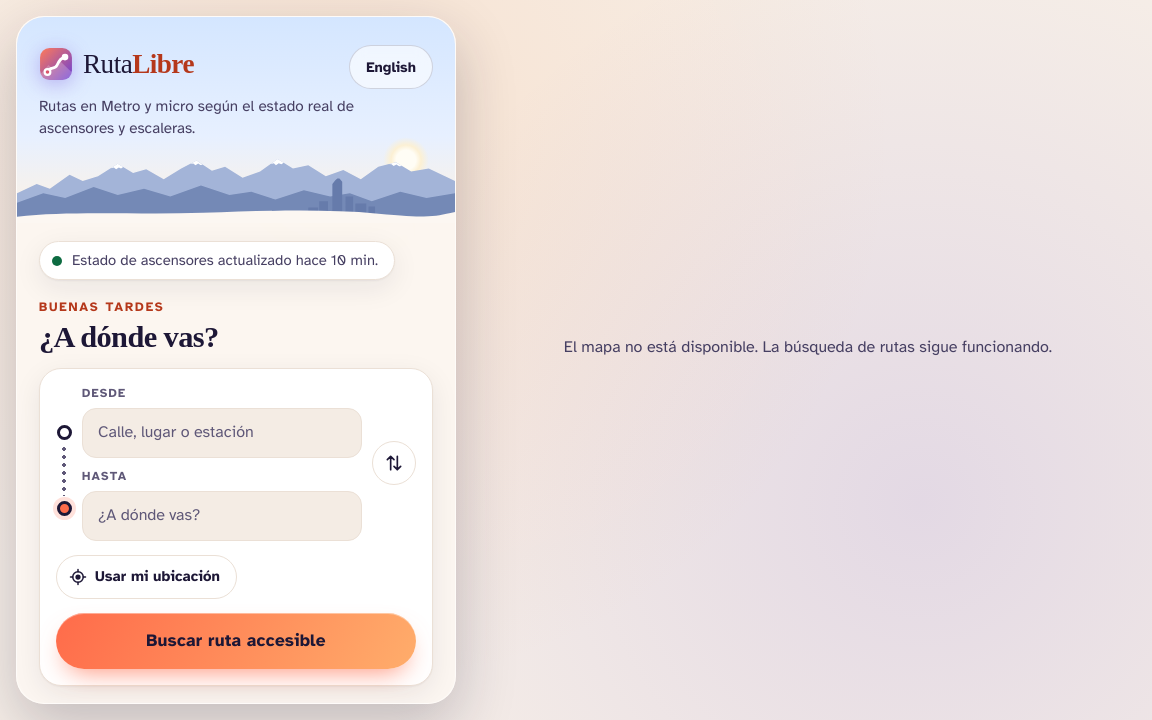
Test: App › keeps the plan result accessible to the whole trip, not just the map
Step 1. Type "Univ" into the dropdown labelled "Desde" → [222, 433], box [82,408,362,458]
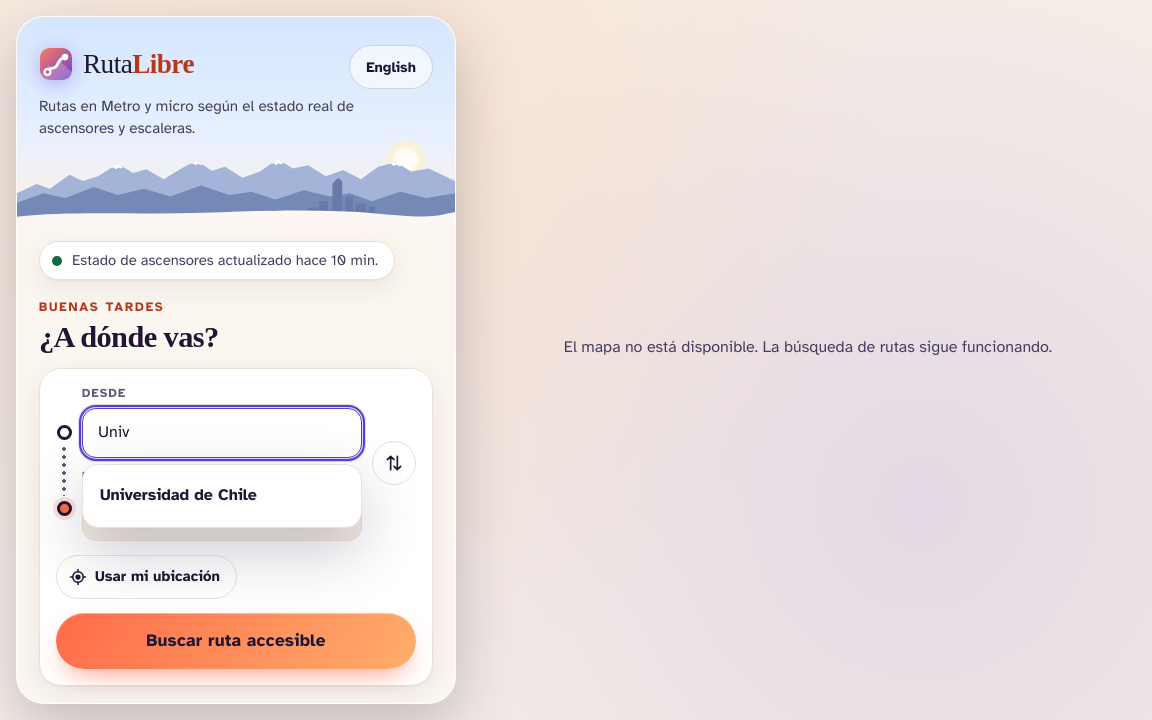
Step 2. Click the option "Universidad de Chile" → [178, 495], box [100,485,257,505]
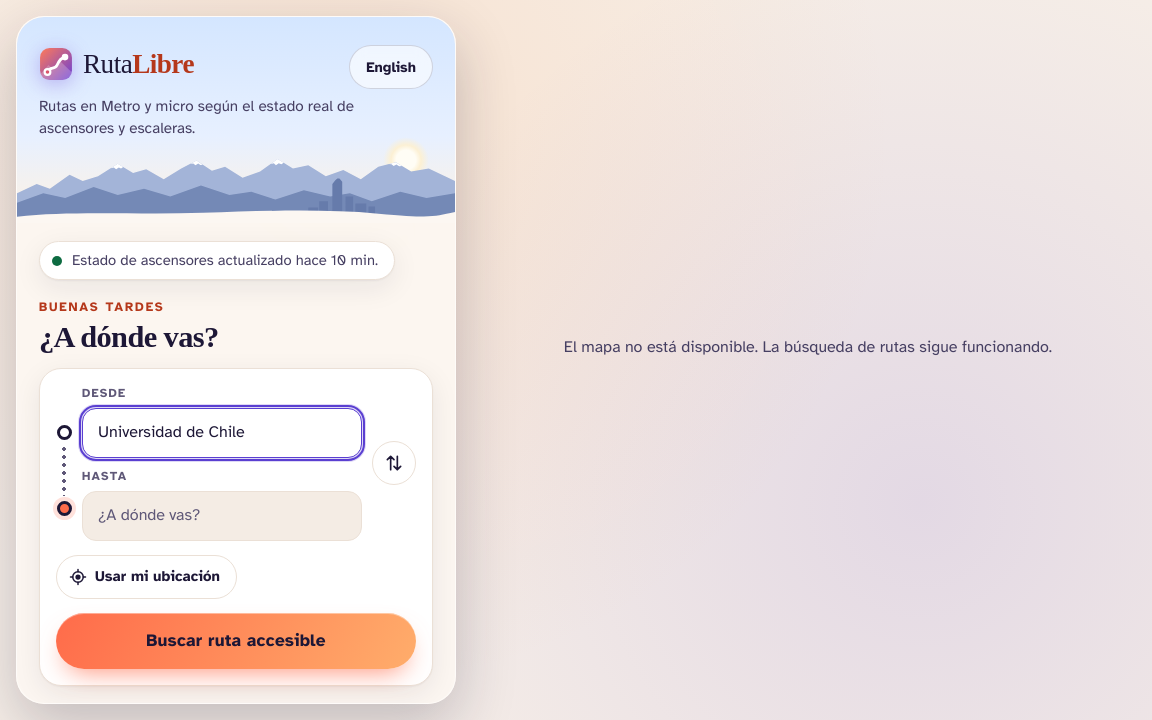
Step 3. Type "Univ" into the dropdown labelled "Hasta" → [222, 516], box [82,491,362,541]
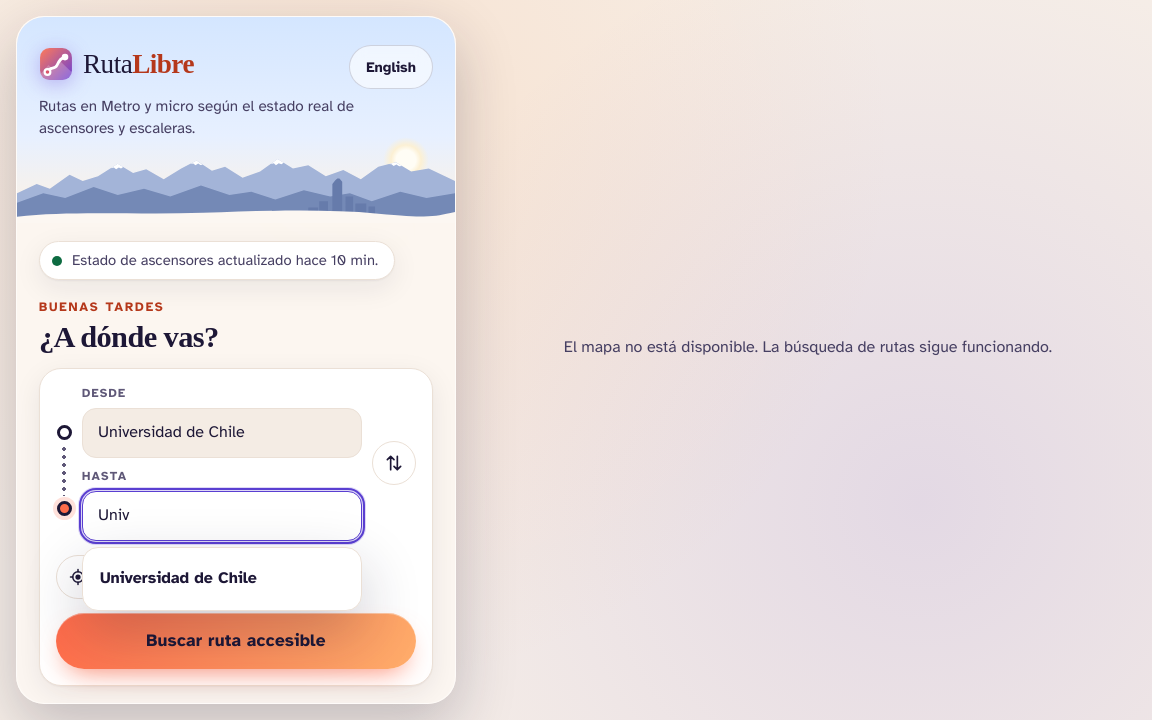
Step 4. Click the option "Universidad de Chile" → [178, 578], box [100,568,257,588]
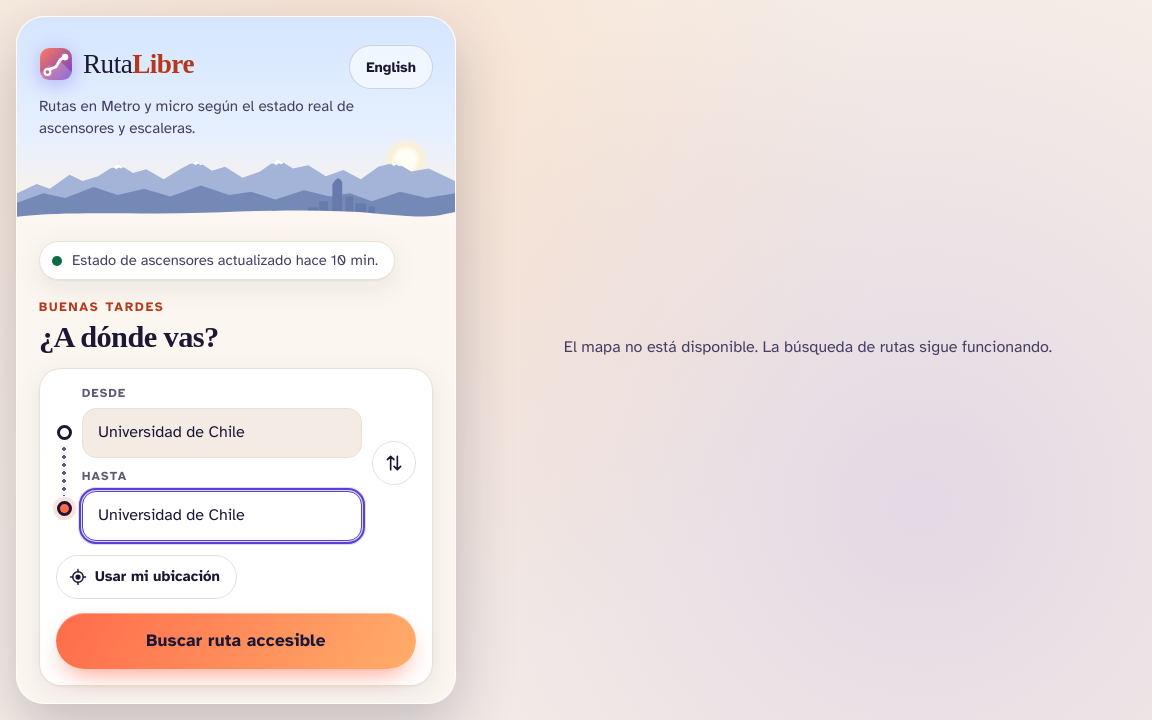
Step 5. Click the button "Buscar ruta accesible" → [236, 641], box [56,613,416,669]
(page scrolled)
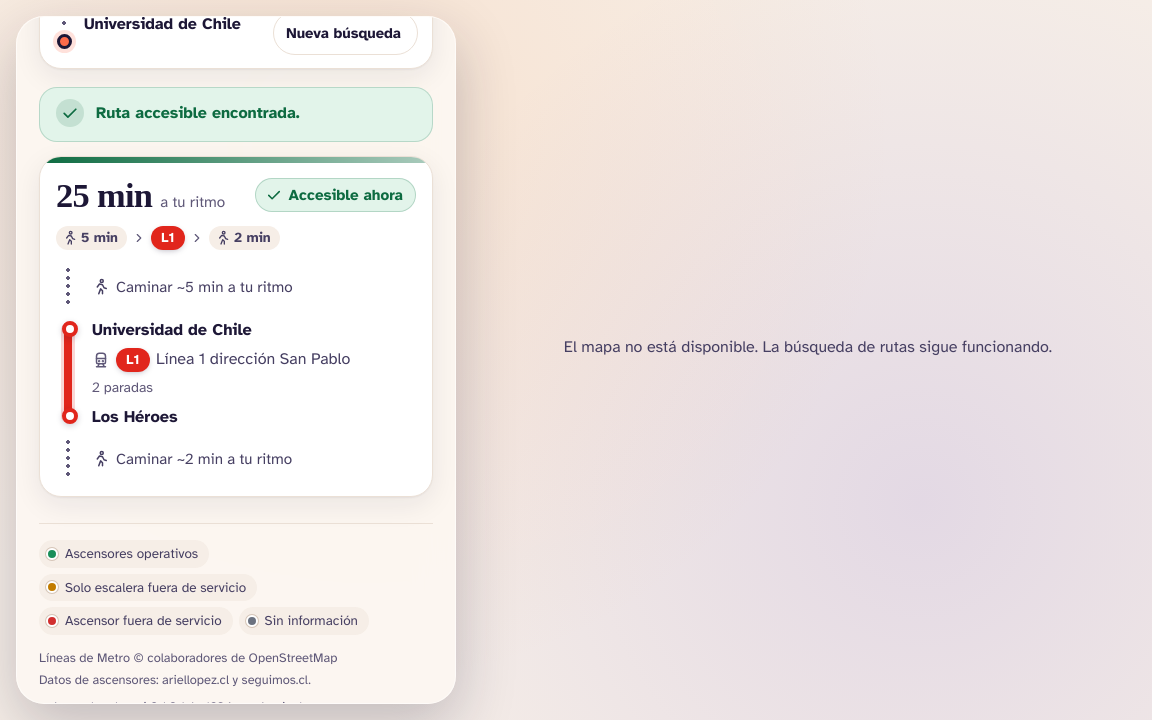
Result: the element that starts with "25 min" is shown at [39,156,433,497]
Result: the text "Línea 1 dirección San Pablo" is shown at [156,348,350,372]
